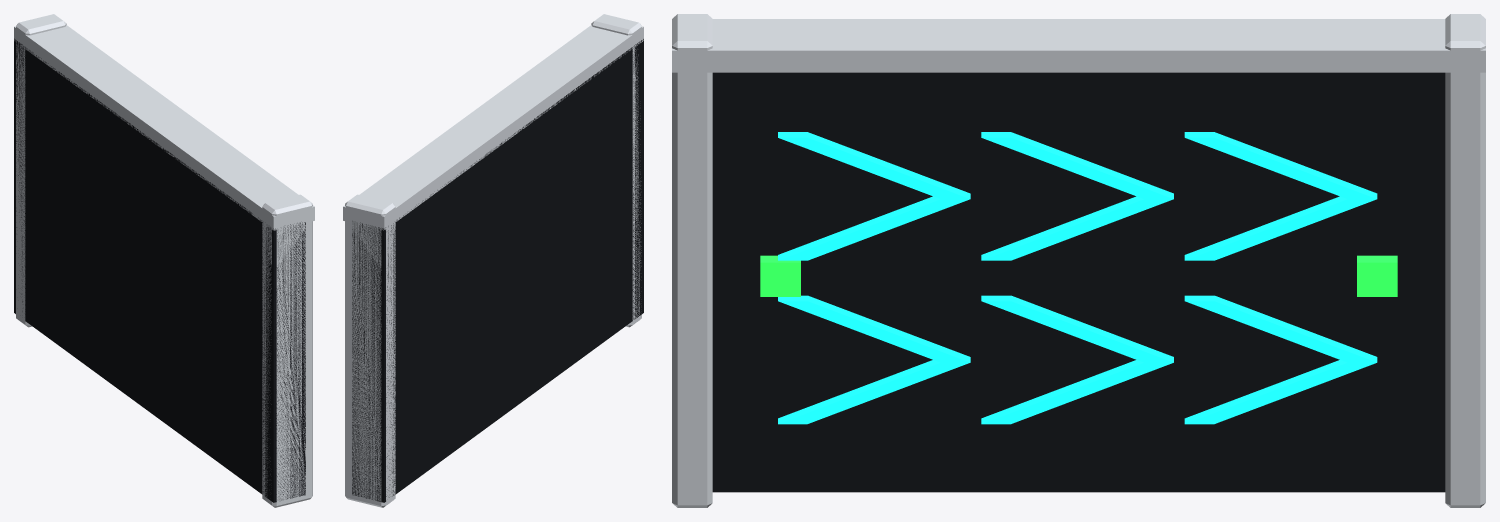
The model's file is skirt_neon_arrows.glb.
3 renders of one model, left to right at view 1: azimuth 30°, elevation 25°; view 2: azimuth 150°, elevation 25°; view 3: azimuth 270°, elevation 25°, orthographic. The views are drawn at different scales.
Parts seen in each view (by area): view 1: skirt_neon_arrows_MID_deco_body, skirt_neon_arrows_HEAD_chrome, skirt_neon_arrows_HEAD_deco_body, skirt_neon_arrows_MID_chrome, skirt_neon_arrows_TAIL_deco_body, skirt_neon_arrows_TAIL_chrome; view 2: skirt_neon_arrows_MID_deco_body, skirt_neon_arrows_TAIL_chrome, skirt_neon_arrows_MID_chrome, skirt_neon_arrows_TAIL_deco_body, skirt_neon_arrows_HEAD_deco_body, skirt_neon_arrows_HEAD_chrome; view 3: skirt_neon_arrows_MID_deco_body, skirt_neon_arrows_MID_chrome, skirt_neon_arrows_MID_deco_neon, skirt_neon_arrows_HEAD_chrome, skirt_neon_arrows_TAIL_chrome, skirt_neon_arrows_HEAD_deco_body, skirt_neon_arrows_TAIL_deco_body, skirt_neon_arrows_MID_deco_led.
Part boxes in pixels (x1=…): skirt_neon_arrows_MID_deco_body: x1=35, y1=55, x2=251, y2=486; skirt_neon_arrows_HEAD_chrome: x1=252, y1=191, x2=314, y2=507; skirt_neon_arrows_HEAD_deco_body: x1=252, y1=213, x2=305, y2=502; skirt_neon_arrows_MID_chrome: x1=35, y1=32, x2=292, y2=214; skirt_neon_arrows_TAIL_deco_body: x1=14, y1=38, x2=35, y2=328; skirt_neon_arrows_TAIL_chrome: x1=14, y1=14, x2=76, y2=327; skirt_neon_arrows_MID_deco_body: x1=406, y1=54, x2=622, y2=486; skirt_neon_arrows_TAIL_chrome: x1=343, y1=191, x2=405, y2=507; skirt_neon_arrows_MID_chrome: x1=365, y1=32, x2=622, y2=214; skirt_neon_arrows_TAIL_deco_body: x1=352, y1=215, x2=405, y2=502; skirt_neon_arrows_HEAD_deco_body: x1=622, y1=39, x2=643, y2=328; skirt_neon_arrows_HEAD_chrome: x1=581, y1=14, x2=643, y2=327; skirt_neon_arrows_MID_deco_body: x1=740, y1=72, x2=1417, y2=492; skirt_neon_arrows_MID_chrome: x1=740, y1=19, x2=1417, y2=72; skirt_neon_arrows_MID_deco_neon: x1=778, y1=132, x2=1377, y2=424; skirt_neon_arrows_HEAD_chrome: x1=672, y1=14, x2=739, y2=507; skirt_neon_arrows_TAIL_chrome: x1=1418, y1=14, x2=1485, y2=507; skirt_neon_arrows_HEAD_deco_body: x1=712, y1=72, x2=739, y2=492; skirt_neon_arrows_TAIL_deco_body: x1=1418, y1=72, x2=1445, y2=492; skirt_neon_arrows_MID_deco_led: x1=760, y1=255, x2=1397, y2=296.
Bounding box in the file's own units: 0.057 × 0.38 × 0.6.
